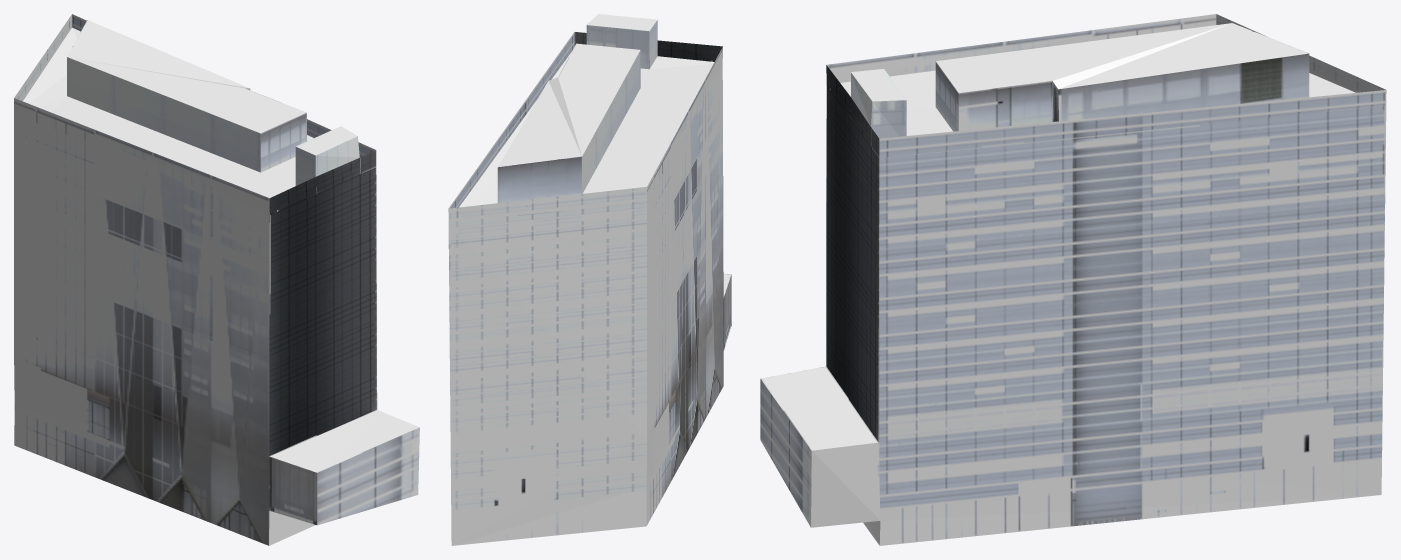
Rendered from Kafd_Base_Location207towerb.glb.
3 views of the same model, side by side, from view 1: azimuth 30°, elevation 25°; view 2: azimuth 150°, elevation 25°; view 3: azimuth 270°, elevation 25° (orthographic). The views are drawn at different scales.
Parts seen in each view (by area): view 1: 2.07-B.001; view 2: 2.07-B.001; view 3: 2.07-B.001.
Boxes of the visible parts, x1=… form: 2.07-B.001: x1=14, y1=14, x2=419, y2=545; 2.07-B.001: x1=448, y1=14, x2=731, y2=545; 2.07-B.001: x1=760, y1=14, x2=1386, y2=545.
Size of the model in its own units: 32.87 by 49.79 by 65.4.
1 material, 1 textured.
